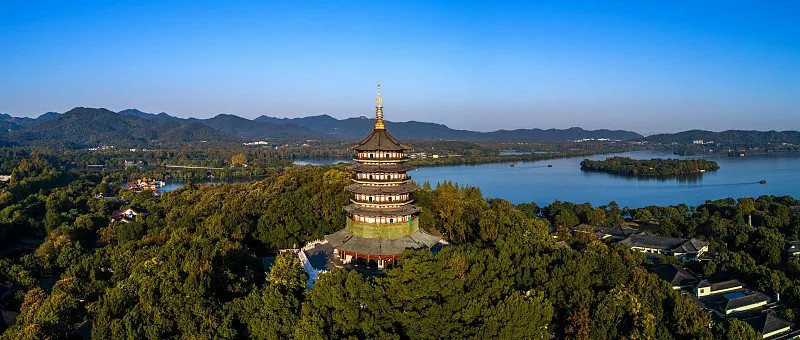Leifeng: (325, 83, 444, 269)
